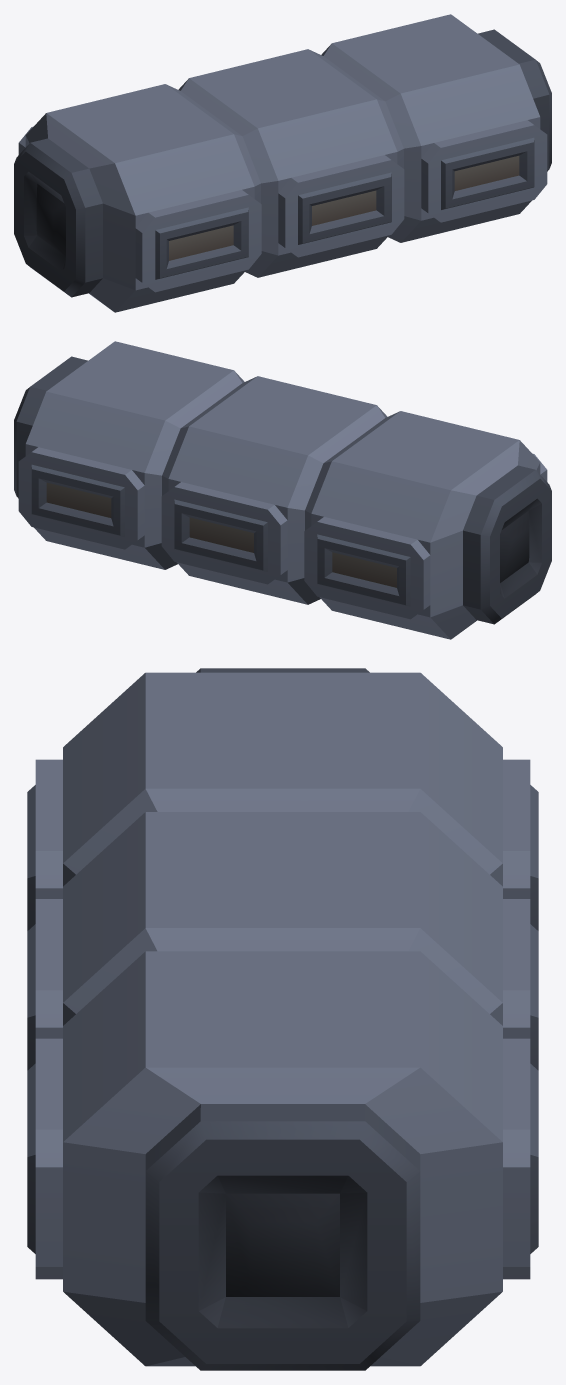
Rendered from tunnel_straight_A.glb.
3 views of the same model, one above another, from view 1: azimuth 30°, elevation 25°; view 2: azimuth 150°, elevation 25°; view 3: azimuth 270°, elevation 25° (orthographic). The views are drawn at different scales.
Visible parts, largest first — view 1: tunnel_straight_A; view 2: tunnel_straight_A; view 3: tunnel_straight_A.
Boxes of the visible parts, x1,y1,x2,y2 form: tunnel_straight_A: [14, 14, 551, 312]; tunnel_straight_A: [14, 341, 551, 639]; tunnel_straight_A: [27, 668, 538, 1370].
Bounding box in the file's own units: 2 × 0.6 × 0.93.
1 material, 1 textured.
